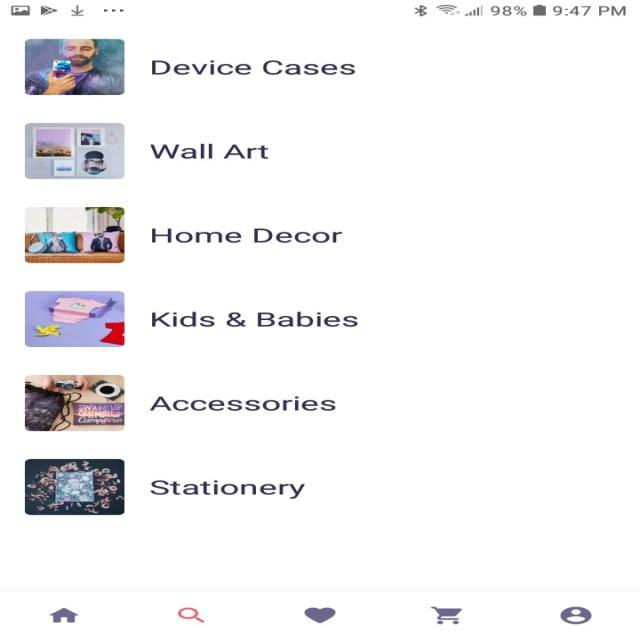Icon: (430, 606, 462, 625), (559, 606, 591, 624), (303, 606, 336, 623), (177, 606, 204, 623), (49, 607, 79, 622)
Image: (24, 290, 124, 348), (24, 206, 124, 264), (24, 458, 124, 515), (24, 374, 124, 431), (24, 122, 124, 179), (24, 38, 124, 95)
Text: (151, 311, 358, 327), (152, 60, 356, 76), (149, 395, 336, 411), (149, 480, 305, 499), (151, 228, 342, 243), (150, 143, 268, 159)
